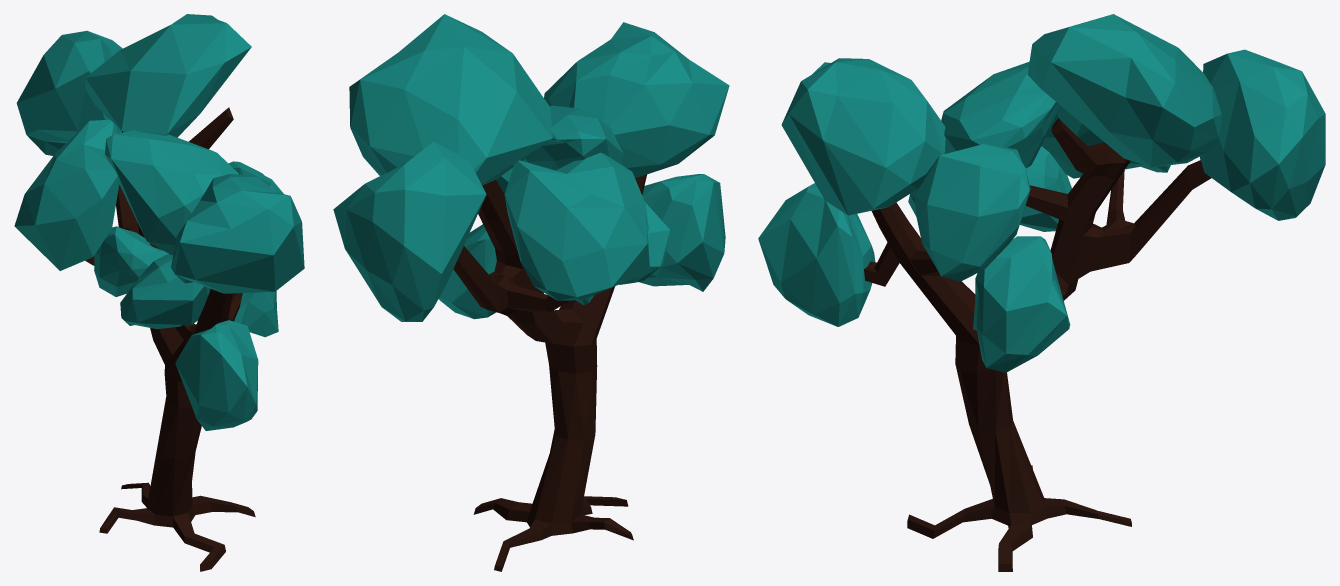
The model's file is t1-cyan.obj.
3 views of the same model, side by side, from view 1: azimuth 30°, elevation 25°; view 2: azimuth 150°, elevation 25°; view 3: azimuth 270°, elevation 25° (orthographic). The views are drawn at different scales.
Visible parts, largest first — view 1: t1-cyan_Cylinder.008; view 2: t1-cyan_Cylinder.008; view 3: t1-cyan_Cylinder.008.
Part boxes in pixels (x1,y1,x2,y2): t1-cyan_Cylinder.008: (14,14,304,571); t1-cyan_Cylinder.008: (333,14,729,571); t1-cyan_Cylinder.008: (758,14,1325,571).
Bounding box in the file's own units: 6.06 × 11.75 × 11.01.
